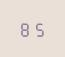eight: (19, 19, 31, 36)
five: (32, 19, 44, 37)
